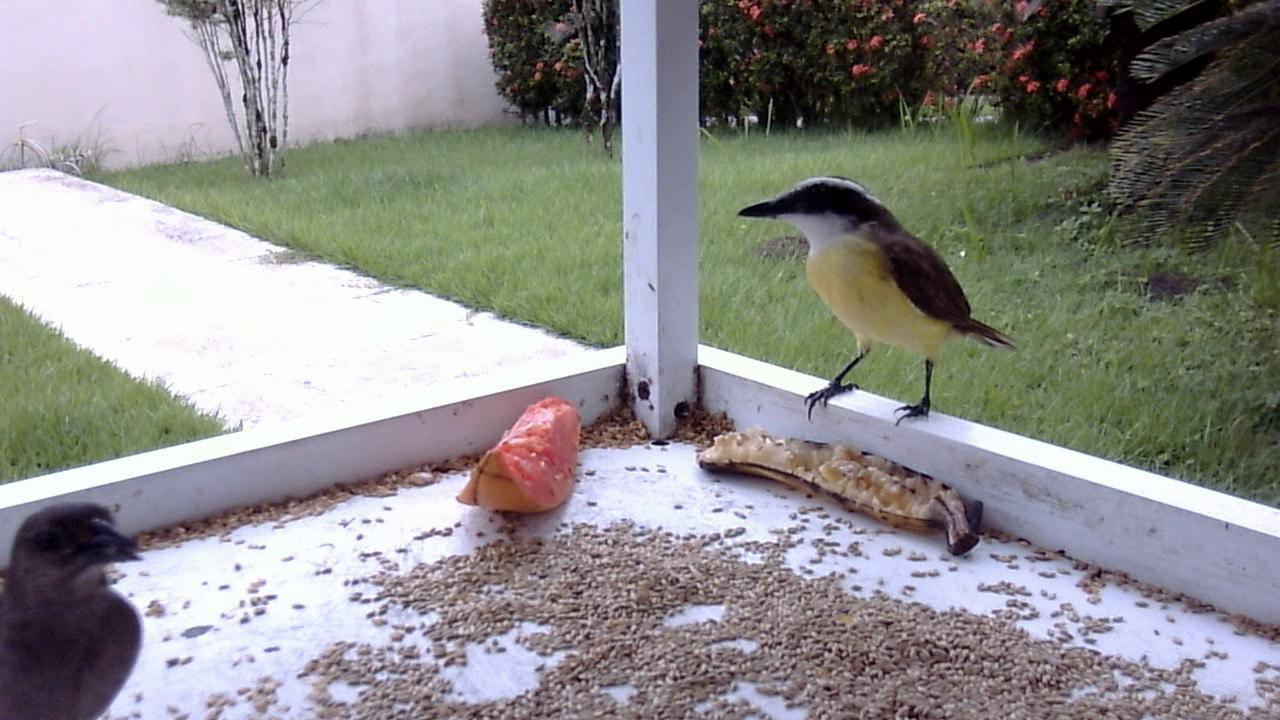bem_te_vi: (728, 167, 1020, 440)
chupim: (1, 492, 160, 720)
